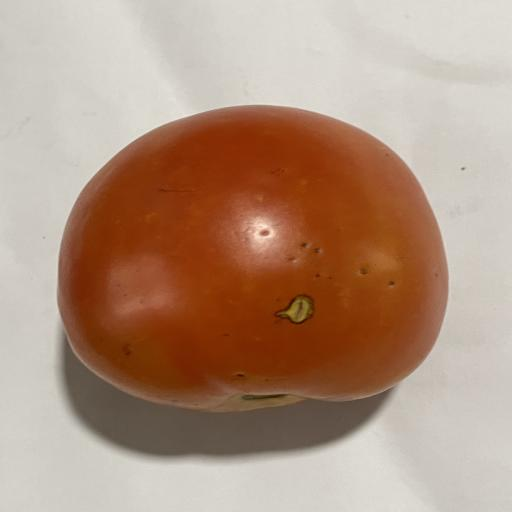ripe: (58, 106, 447, 412)
